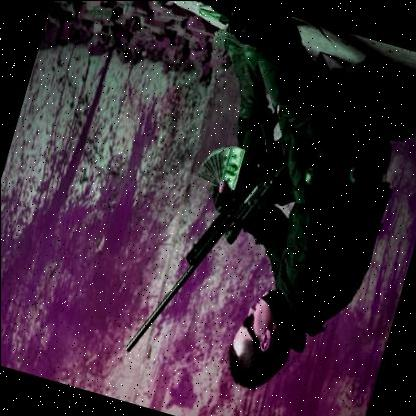rifle: (123, 104, 291, 383)
